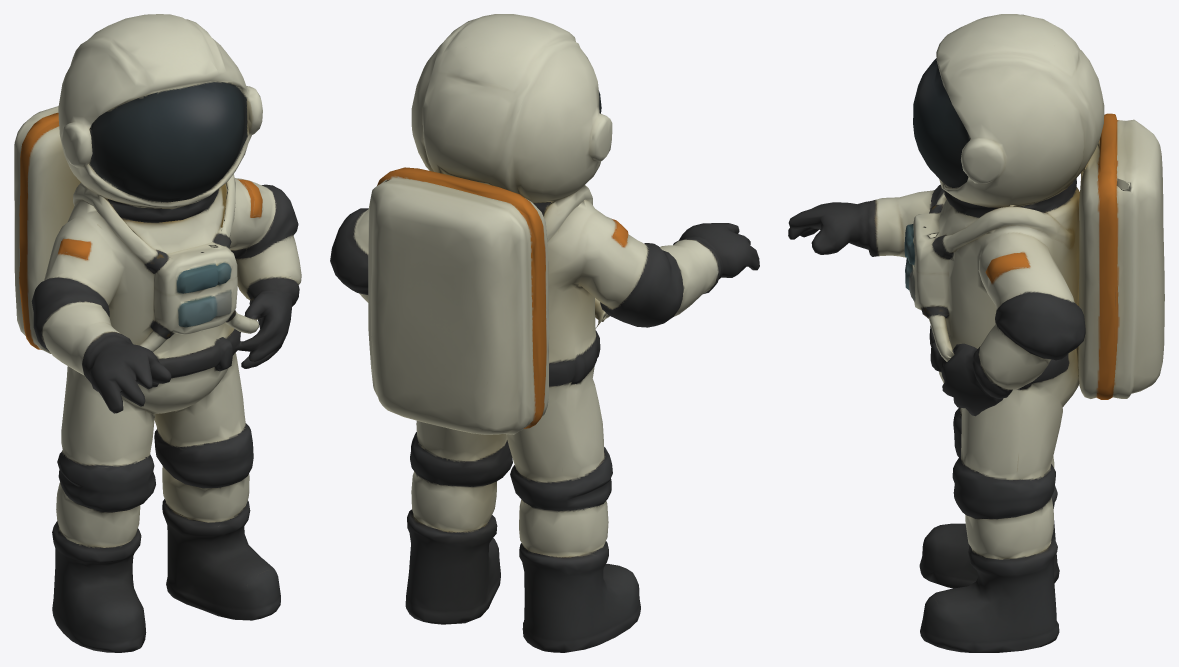
The model's file is figura-ukazyvaet-variant.glb.
3 views of the same model, side by side, from view 1: azimuth 30°, elevation 25°; view 2: azimuth 150°, elevation 25°; view 3: azimuth 270°, elevation 25° (orthographic). The views are drawn at different scales.
Visible parts, largest first — view 1: geometry_0; view 2: geometry_0; view 3: geometry_0.
Part boxes in pixels (x1,y1,x2,y2): geometry_0: [14, 14, 301, 652]; geometry_0: [330, 14, 759, 652]; geometry_0: [788, 14, 1164, 652].
Bounding box in the file's own units: 0.5386 × 1 × 0.5866.
Materials: 1 (1 with a texture image).
